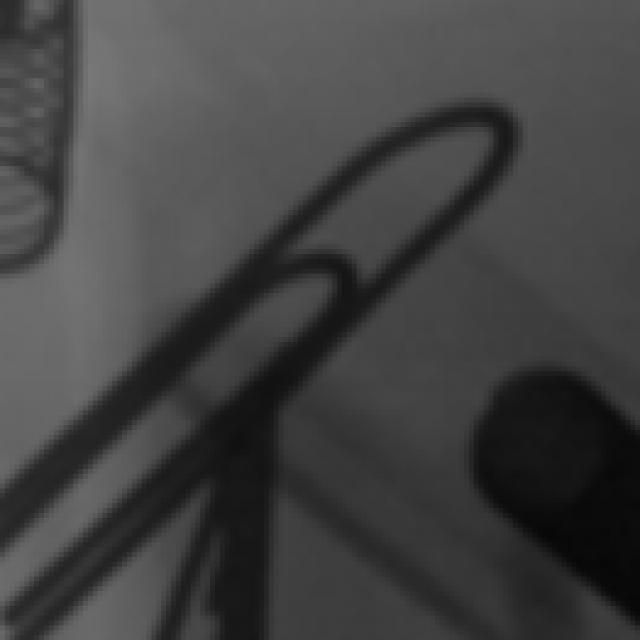GUN: (1, 1, 84, 294)
